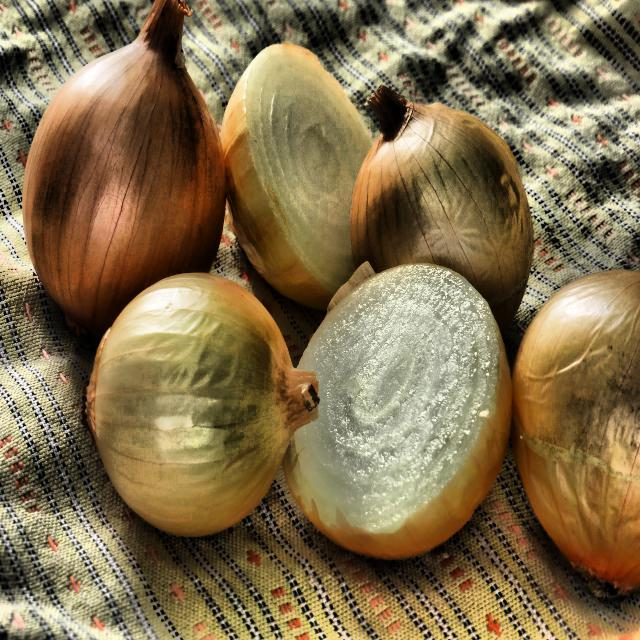onion: (19, 9, 629, 626)
